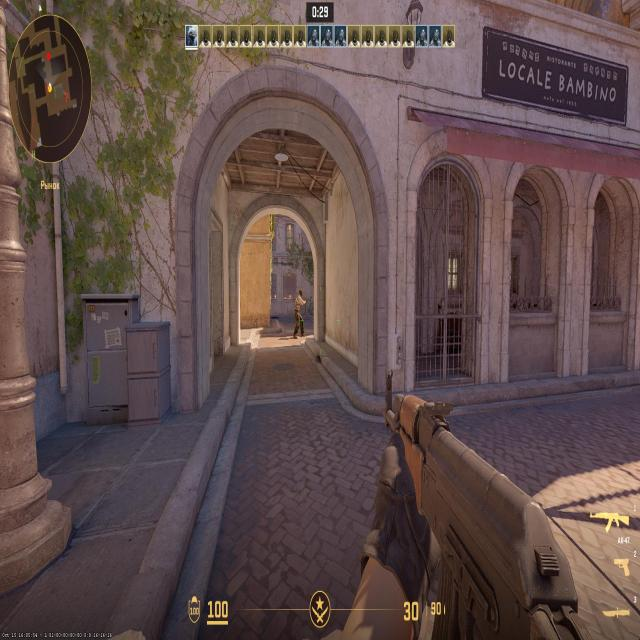T: (295, 292, 303, 336)
T_heat: (300, 290, 302, 299)
